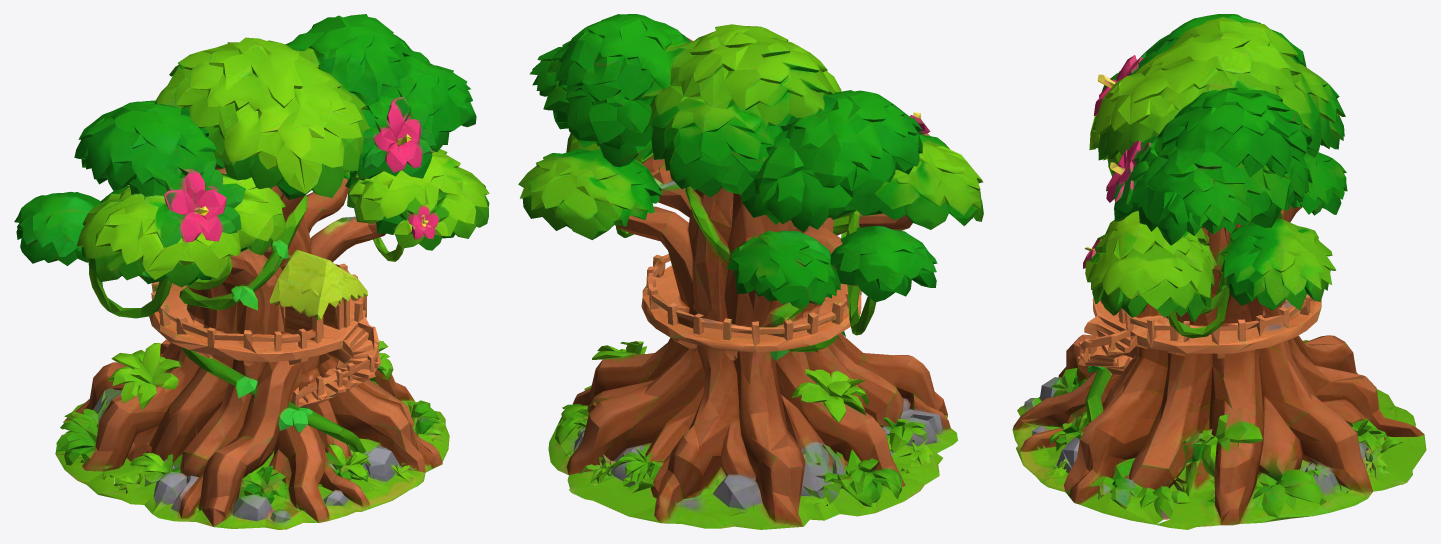
Rendered from giant-tree.glb.
3 views of the same model, side by side, from view 1: azimuth 30°, elevation 25°; view 2: azimuth 150°, elevation 25°; view 3: azimuth 270°, elevation 25° (orthographic). The views are drawn at different scales.
Visible parts, largest first — view 1: giant-tree; view 2: giant-tree; view 3: giant-tree.
Part boxes in pixels (x1,y1,x2,y2): giant-tree: (14,14,489,529); giant-tree: (518,14,983,529); giant-tree: (1012,14,1426,529).
Bounding box in the file's own units: 49.14 × 45 × 41.11.
Materials: 1 (1 with a texture image).
